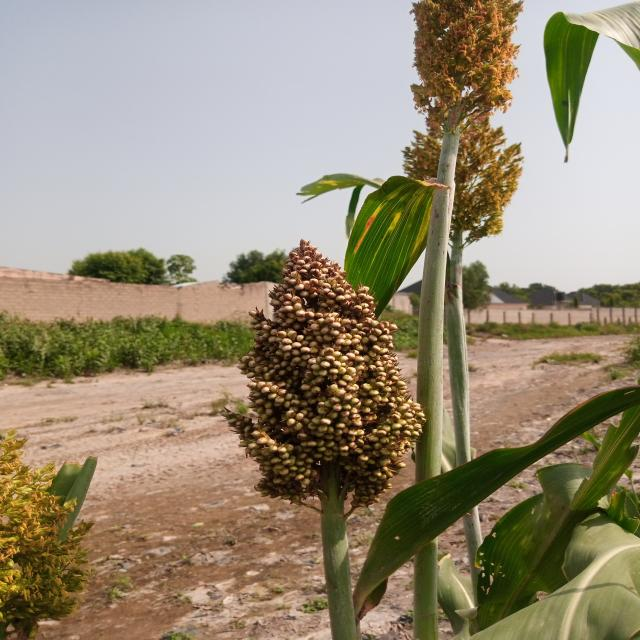UnripeSorghum: (193, 227, 465, 527)
